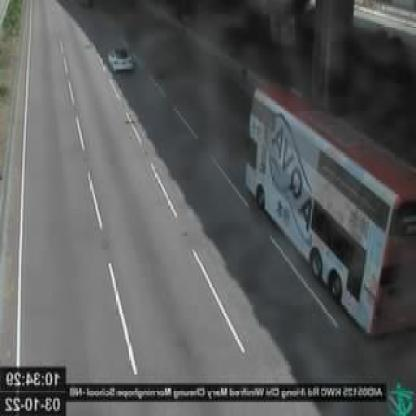Bus: (247, 83, 416, 328)
Car: (107, 45, 136, 71)
